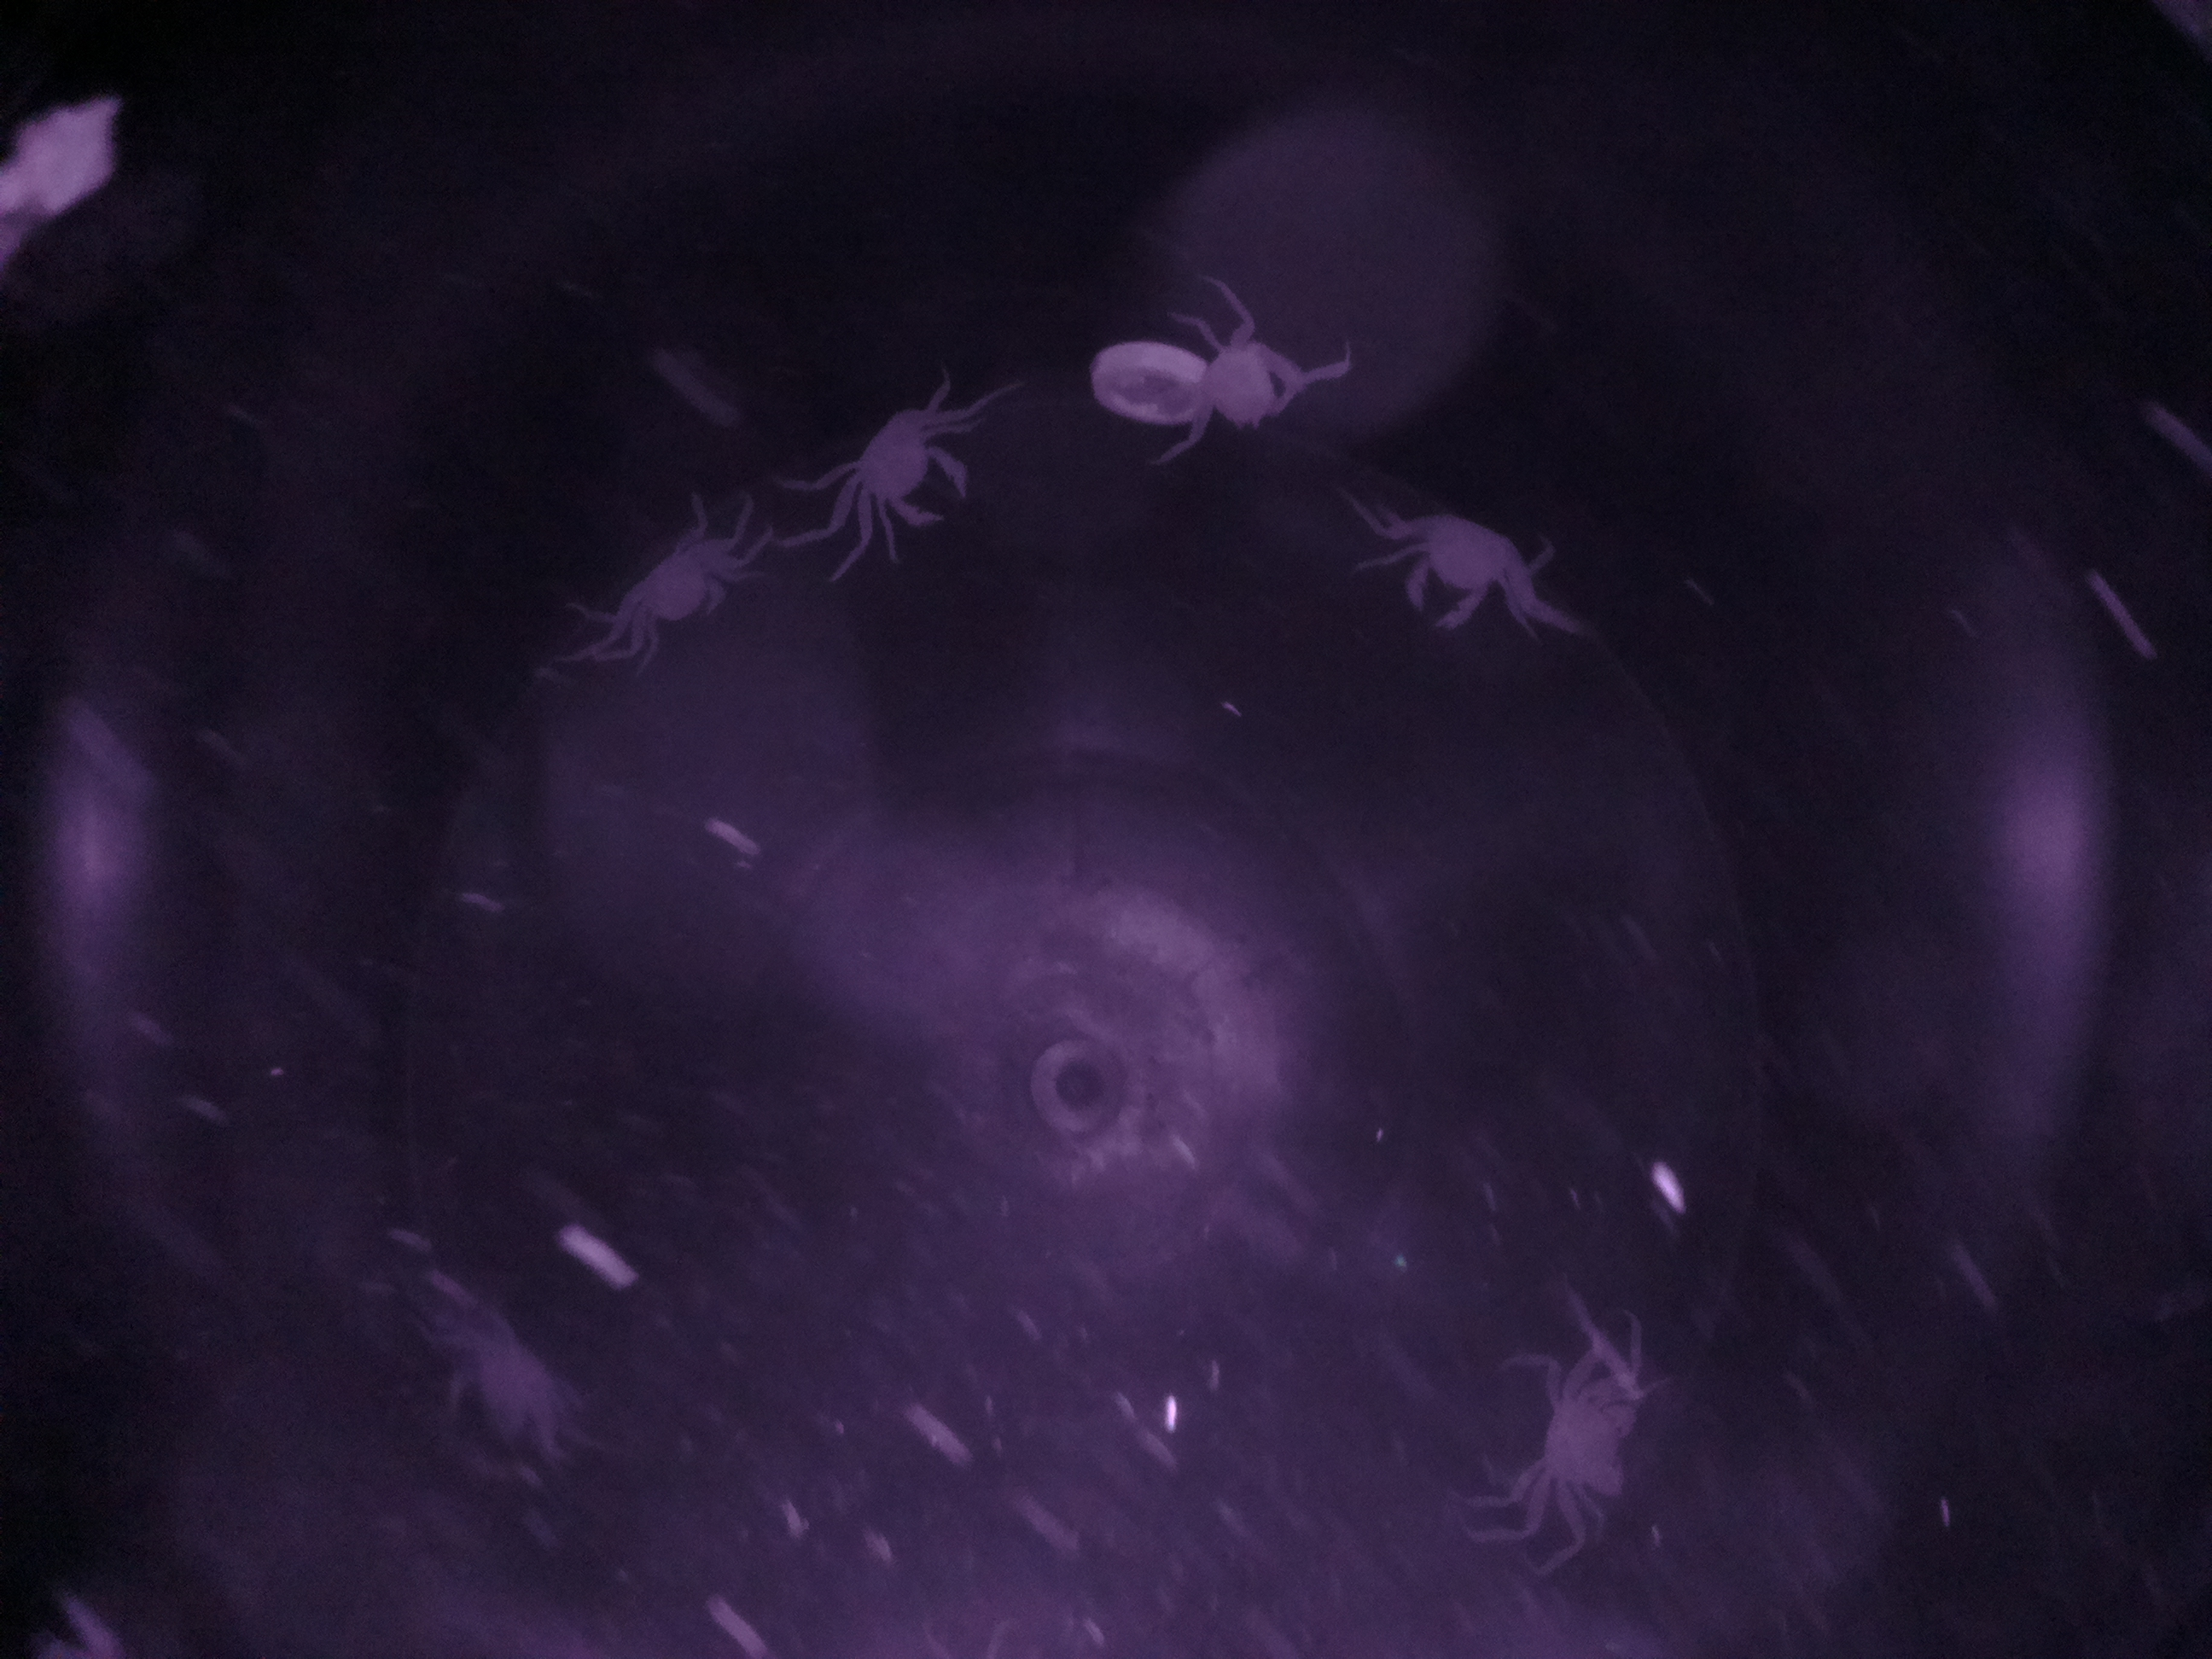Crab: (1486, 1337, 1683, 1539), (573, 511, 780, 659), (1355, 484, 1543, 643), (826, 376, 989, 551)
